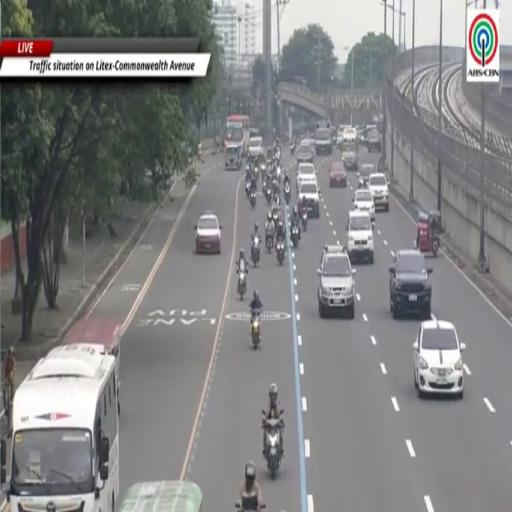bus: (9, 344, 119, 511), (225, 115, 250, 156)
car: (414, 320, 465, 398), (390, 249, 432, 318), (318, 246, 355, 318), (346, 211, 374, 264), (195, 212, 221, 253), (368, 173, 389, 212), (299, 182, 320, 218), (353, 189, 375, 221), (342, 138, 358, 170), (297, 164, 317, 189), (315, 125, 332, 154), (329, 162, 347, 187), (357, 164, 375, 188), (225, 146, 242, 170), (297, 141, 313, 165), (341, 127, 356, 152), (248, 137, 263, 159), (366, 131, 381, 152), (336, 125, 346, 147), (365, 124, 378, 137), (357, 128, 365, 145)
jeepney: (63, 315, 121, 414), (118, 480, 202, 511)
motorcycle: (262, 419, 283, 479), (236, 492, 266, 511), (251, 311, 260, 349), (237, 270, 246, 300), (251, 237, 260, 267), (276, 239, 285, 265), (291, 224, 299, 248), (266, 232, 273, 252), (284, 182, 290, 205), (272, 209, 280, 225), (265, 186, 272, 204), (250, 190, 256, 209), (301, 212, 307, 231), (273, 178, 279, 195), (262, 176, 267, 194), (246, 180, 251, 197), (276, 167, 281, 183), (291, 143, 295, 155)
tricycle: (415, 211, 442, 257)
